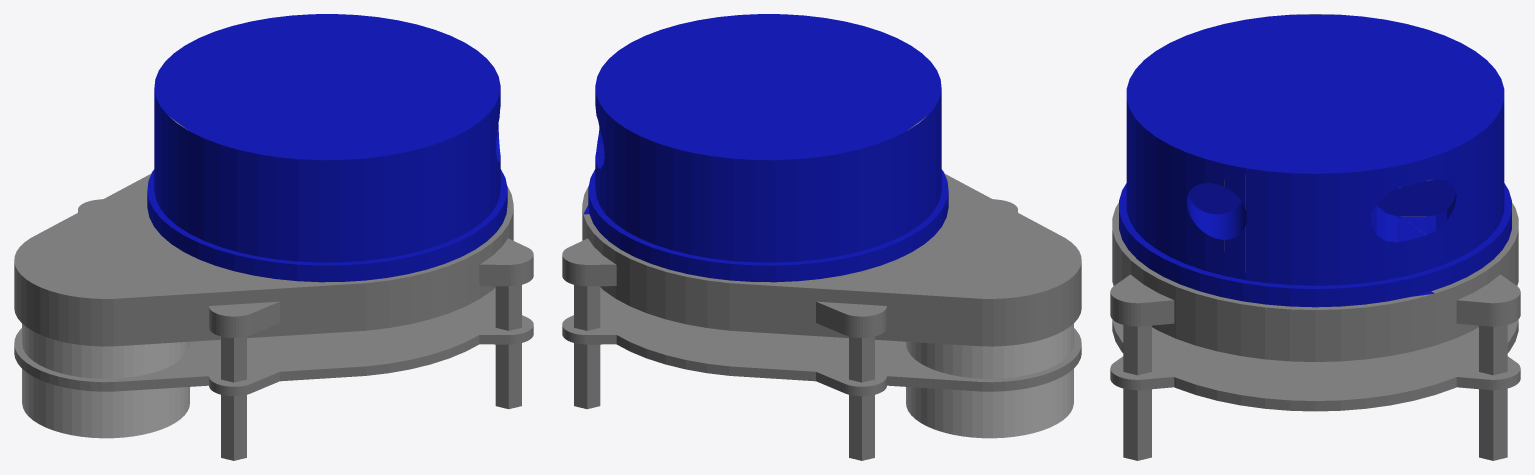
The model's file is mushr_ydlidar.dae.
3 renders of one model, left to right at view 1: azimuth 30°, elevation 25°; view 2: azimuth 150°, elevation 25°; view 3: azimuth 270°, elevation 25°, orthographic. The views are drawn at different scales.
Visible parts, largest first — view 1: Racecar_Ydlidar; view 2: Racecar_Ydlidar; view 3: Racecar_Ydlidar.
Part boxes in pixels (x1,y1,x2,y2): Racecar_Ydlidar: [14, 14, 533, 460]; Racecar_Ydlidar: [562, 14, 1081, 460]; Racecar_Ydlidar: [1110, 14, 1520, 460].
Size of the model in its own units: 0.1017 by 0.0715 by 0.059.
